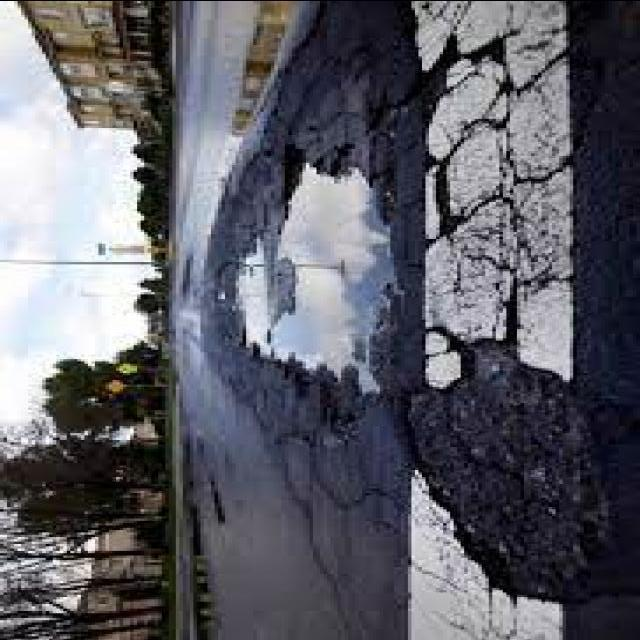pothole: (411, 348, 589, 601), (238, 165, 394, 392)
